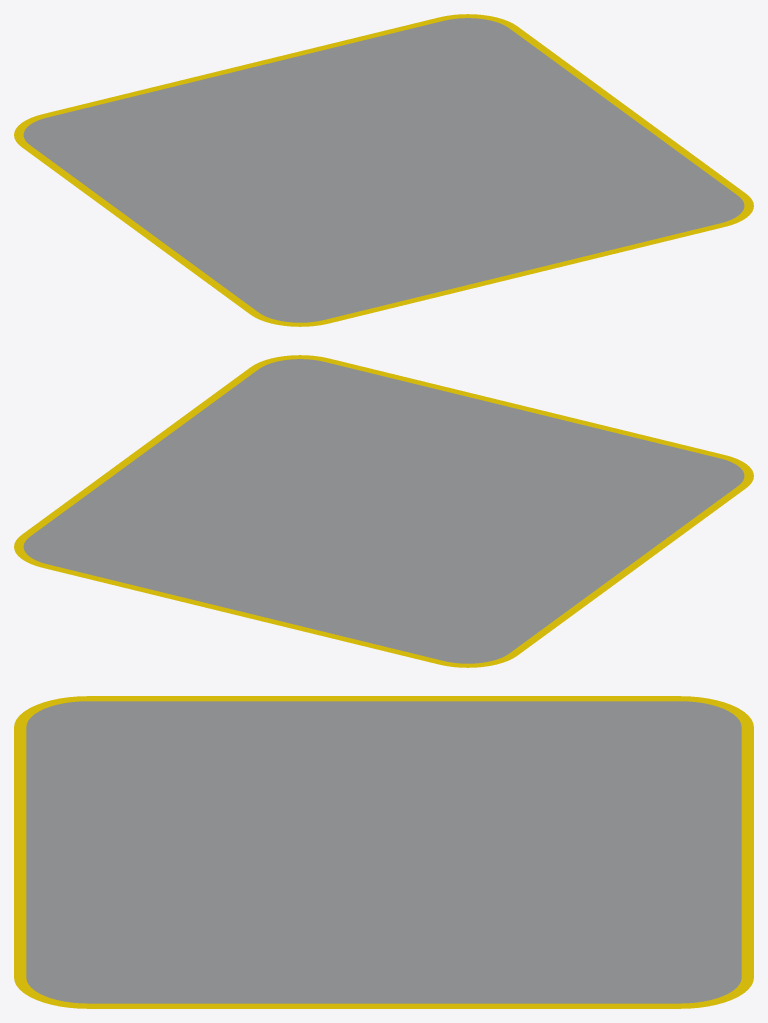
File: Factory_Floor.fbx
3 views of the same model, one above another, from view 1: azimuth 30°, elevation 25°; view 2: azimuth 150°, elevation 25°; view 3: azimuth 270°, elevation 25° (orthographic). The views are drawn at different scales.
Parts seen in each view (by area): view 1: Floor_Zone; view 2: Floor_Zone; view 3: Floor_Zone.
Boxes of the visible parts, <box> form: Floor_Zone: <box>14,14,753,326</box>; Floor_Zone: <box>14,355,753,667</box>; Floor_Zone: <box>14,696,753,1008</box>.
Size of what is drawn, in the model's own units: 6 by 0.001 by 6.
